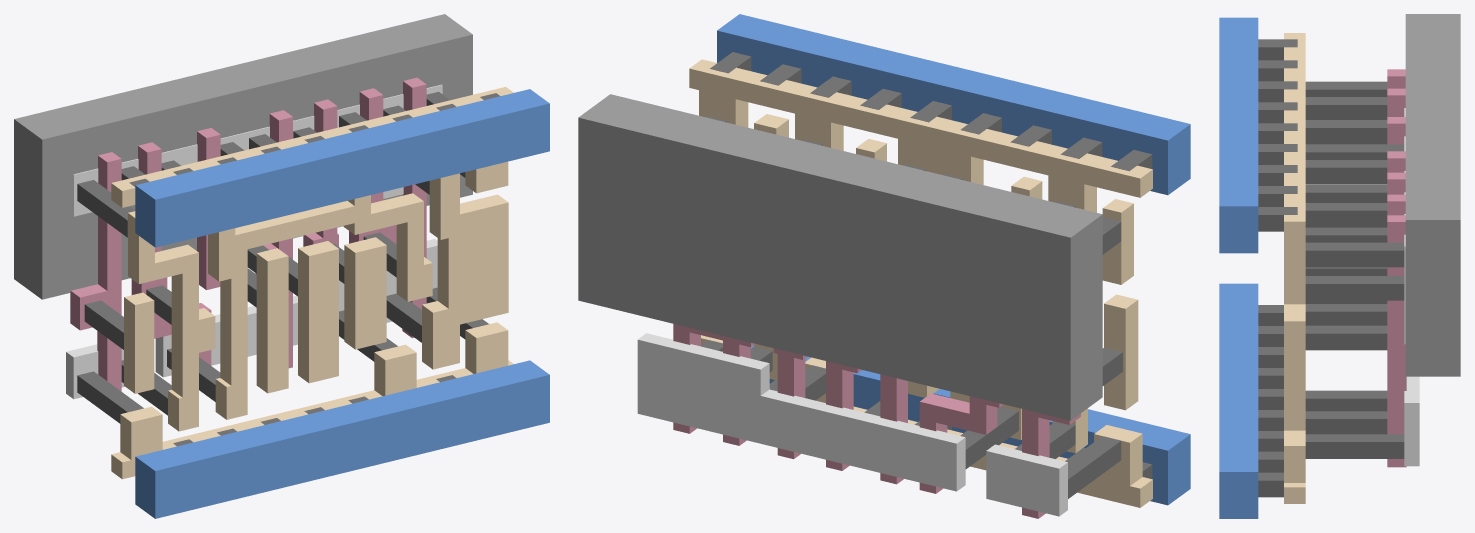
Rendered from sky130_fd_sc_hd__and4b_2.gds.gltf.
The picture shows the model from 3 angles, left to right: view 1: azimuth 30°, elevation 25°; view 2: azimuth 150°, elevation 25°; view 3: azimuth 270°, elevation 25°; orthographic projection. The views are drawn at different scales.
Parts seen in each view (by area): view 1: sky130_fd_sc_hd__and4b_2_li1, sky130_fd_sc_hd__and4b_2_met1, sky130_fd_sc_hd__and4b_2_nwell, sky130_fd_sc_hd__and4b_2_poly, sky130_fd_sc_hd__and4b_2_licon, sky130_fd_sc_hd__and4b_2_diff, sky130_fd_sc_hd__and4b_2_mcon; view 2: sky130_fd_sc_hd__and4b_2_nwell, sky130_fd_sc_hd__and4b_2_li1, sky130_fd_sc_hd__and4b_2_met1, sky130_fd_sc_hd__and4b_2_diff, sky130_fd_sc_hd__and4b_2_poly, sky130_fd_sc_hd__and4b_2_licon, sky130_fd_sc_hd__and4b_2_mcon; view 3: sky130_fd_sc_hd__and4b_2_licon, sky130_fd_sc_hd__and4b_2_nwell, sky130_fd_sc_hd__and4b_2_met1, sky130_fd_sc_hd__and4b_2_mcon, sky130_fd_sc_hd__and4b_2_li1, sky130_fd_sc_hd__and4b_2_poly, sky130_fd_sc_hd__and4b_2_diff.
Boxes of the visible parts, x1,y1,x2,y2 form: sky130_fd_sc_hd__and4b_2_li1: [111, 86, 513, 479]; sky130_fd_sc_hd__and4b_2_met1: [135, 89, 549, 518]; sky130_fd_sc_hd__and4b_2_nwell: [14, 14, 472, 299]; sky130_fd_sc_hd__and4b_2_poly: [70, 77, 426, 391]; sky130_fd_sc_hd__and4b_2_licon: [77, 91, 488, 423]; sky130_fd_sc_hd__and4b_2_diff: [66, 84, 442, 399]; sky130_fd_sc_hd__and4b_2_mcon: [129, 93, 500, 446]; sky130_fd_sc_hd__and4b_2_nwell: [578, 94, 1102, 420]; sky130_fd_sc_hd__and4b_2_li1: [689, 59, 1152, 507]; sky130_fd_sc_hd__and4b_2_met1: [717, 14, 1190, 505]; sky130_fd_sc_hd__and4b_2_diff: [637, 333, 1067, 516]; sky130_fd_sc_hd__and4b_2_poly: [673, 324, 1080, 518]; sky130_fd_sc_hd__and4b_2_licon: [701, 116, 1122, 498]; sky130_fd_sc_hd__and4b_2_mcon: [710, 52, 1152, 478]; sky130_fd_sc_hd__and4b_2_licon: [1305, 81, 1404, 458]; sky130_fd_sc_hd__and4b_2_nwell: [1405, 14, 1460, 376]; sky130_fd_sc_hd__and4b_2_met1: [1219, 17, 1258, 518]; sky130_fd_sc_hd__and4b_2_mcon: [1258, 39, 1297, 497]; sky130_fd_sc_hd__and4b_2_li1: [1284, 33, 1305, 503]; sky130_fd_sc_hd__and4b_2_poly: [1387, 69, 1406, 467]; sky130_fd_sc_hd__and4b_2_diff: [1404, 108, 1419, 466].
Size of the model in its own units: 4.52 by 3.2 by 2.24.
